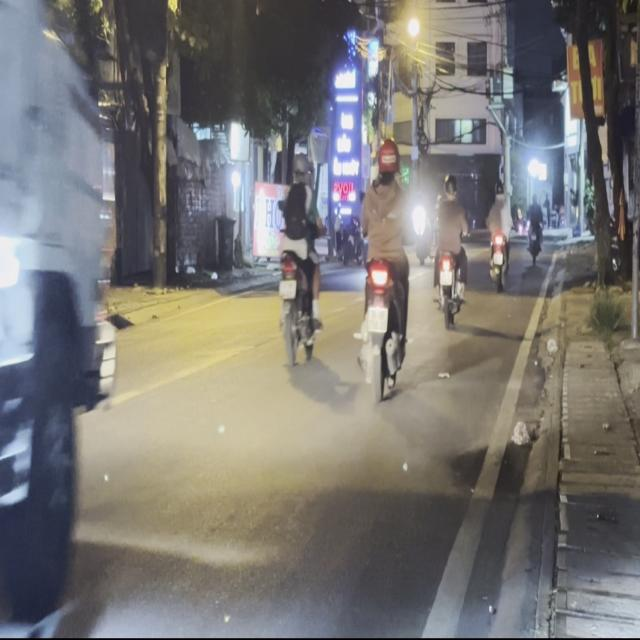helmet: (375, 136, 399, 180), (290, 151, 308, 183)
licenseplate: (354, 134, 412, 400), (274, 148, 323, 364)
nohelmet: (365, 306, 387, 331), (279, 279, 295, 297)
